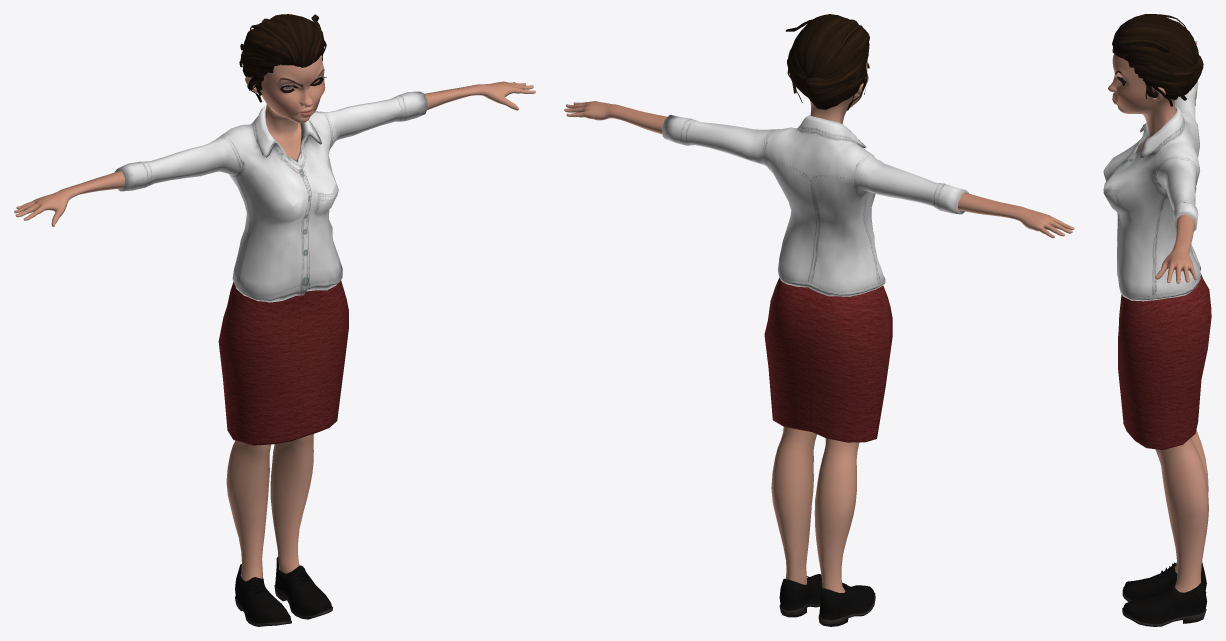
3 views of the same model, side by side, from view 1: azimuth 30°, elevation 25°; view 2: azimuth 150°, elevation 25°; view 3: azimuth 270°, elevation 25° (orthographic). The views are drawn at different scales.
Visible parts, largest first — view 1: Tops, Bottoms, Body, Hair, Shoes; view 2: Tops, Bottoms, Body, Hair, Shoes; view 3: Tops, Bottoms, Body, Hair, Shoes.
Boxes of the visible parts, x1,y1,x2,y2 form: Tops: (114, 91, 427, 302); Bottoms: (218, 280, 348, 445); Body: (14, 55, 535, 581); Hair: (239, 14, 326, 102); Shoes: (235, 556, 332, 626); Tops: (662, 115, 968, 296); Bottoms: (764, 277, 892, 442); Body: (564, 60, 1074, 592); Hair: (785, 14, 869, 110); Shoes: (779, 574, 875, 626); Tops: (1103, 81, 1200, 301); Bottoms: (1118, 274, 1211, 449); Body: (1108, 41, 1208, 592); Hair: (1112, 14, 1203, 106); Shoes: (1122, 562, 1207, 626).
Bounding box in the file's own units: 151 × 166 × 27.58.
1 material, 1 textured.
